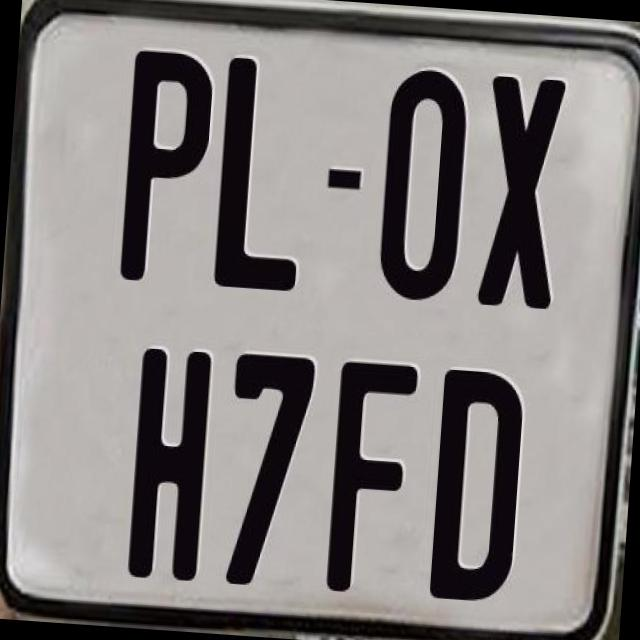0: (372, 65, 466, 306)
7: (218, 349, 316, 591)
D: (426, 366, 526, 603)
F: (324, 360, 418, 602)
H: (126, 348, 210, 585)
L: (212, 52, 318, 289)
P: (118, 49, 214, 289)
X: (476, 74, 568, 318)
